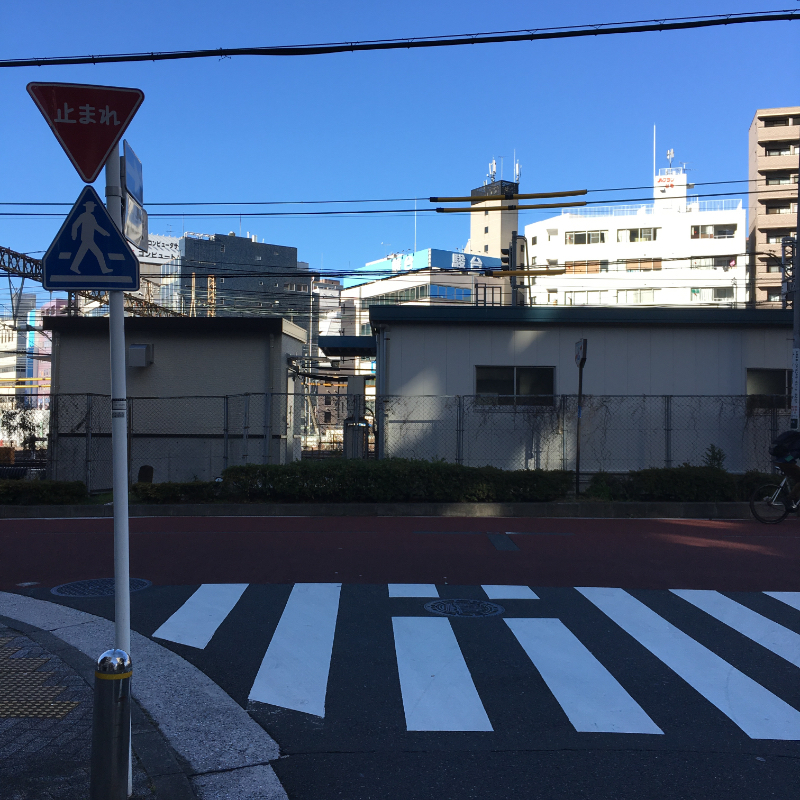STOP: (21, 78, 147, 185)
